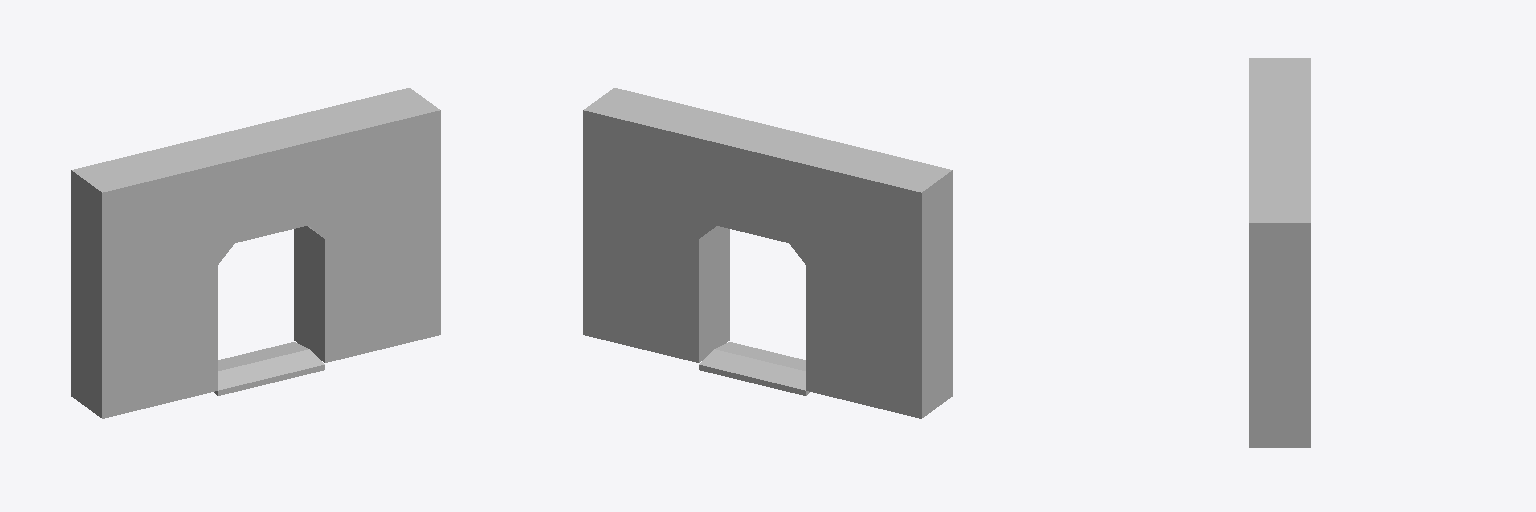
File: wall_doorway.obj
3 views of the same model, side by side, from view 1: azimuth 30°, elevation 25°; view 2: azimuth 150°, elevation 25°; view 3: azimuth 270°, elevation 25° (orthographic).
Parts seen in each view (by area): view 1: Cube; view 2: Cube; view 3: Cube.
Boxes of the visible parts, box(x1,y1,x2,y2) form: Cube: box(71, 88, 440, 418); Cube: box(583, 88, 952, 418); Cube: box(1249, 58, 1310, 447).
Size of the model in its own units: 6.3 by 4.12 by 1.